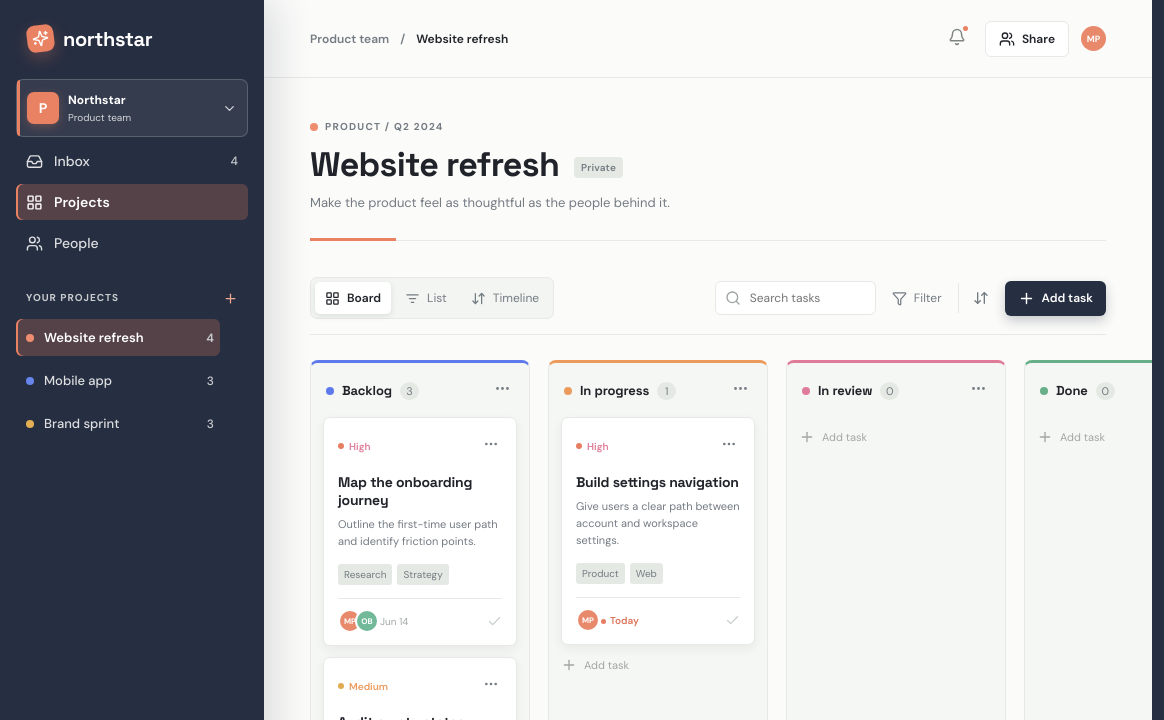
Task creation (Add task modal) › closes a card options menu when clicking outside it
Click the button named "Options for Map the onboarding journey" at (491, 446), box [480, 433, 502, 459]
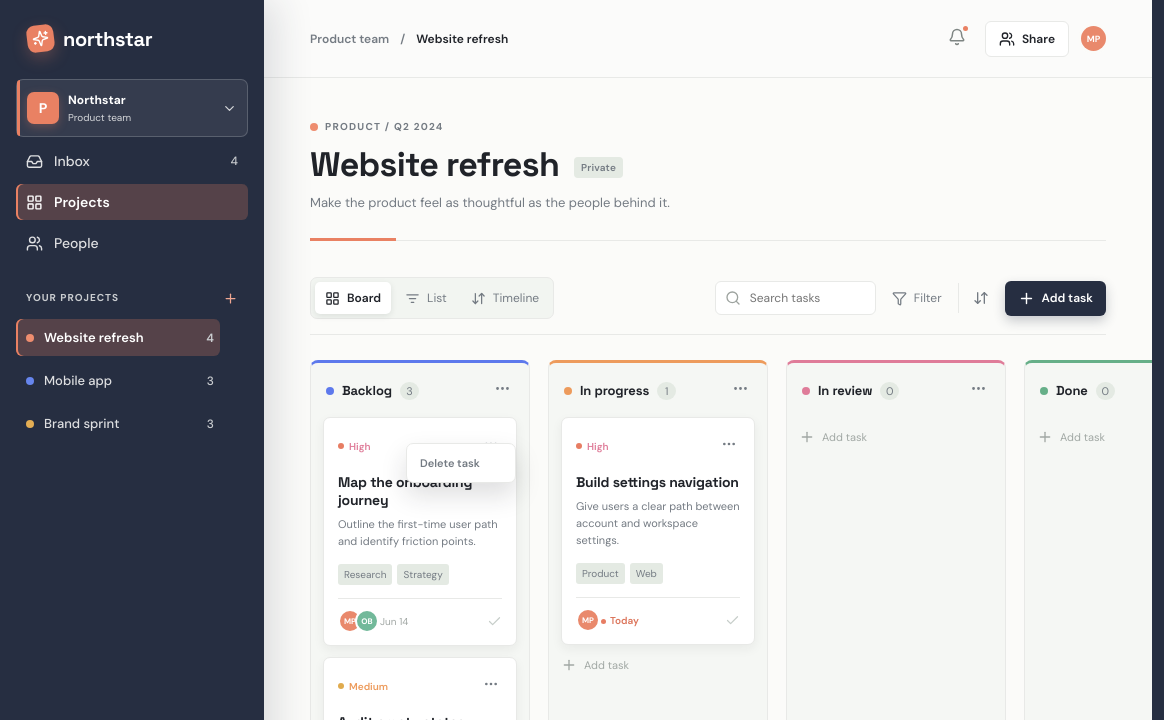
Check: the button "Delete task" is shown, box [412, 449, 510, 477]
Click the element with class "task-menu-backdrop" at (576, 360), box [0, 0, 1152, 719]
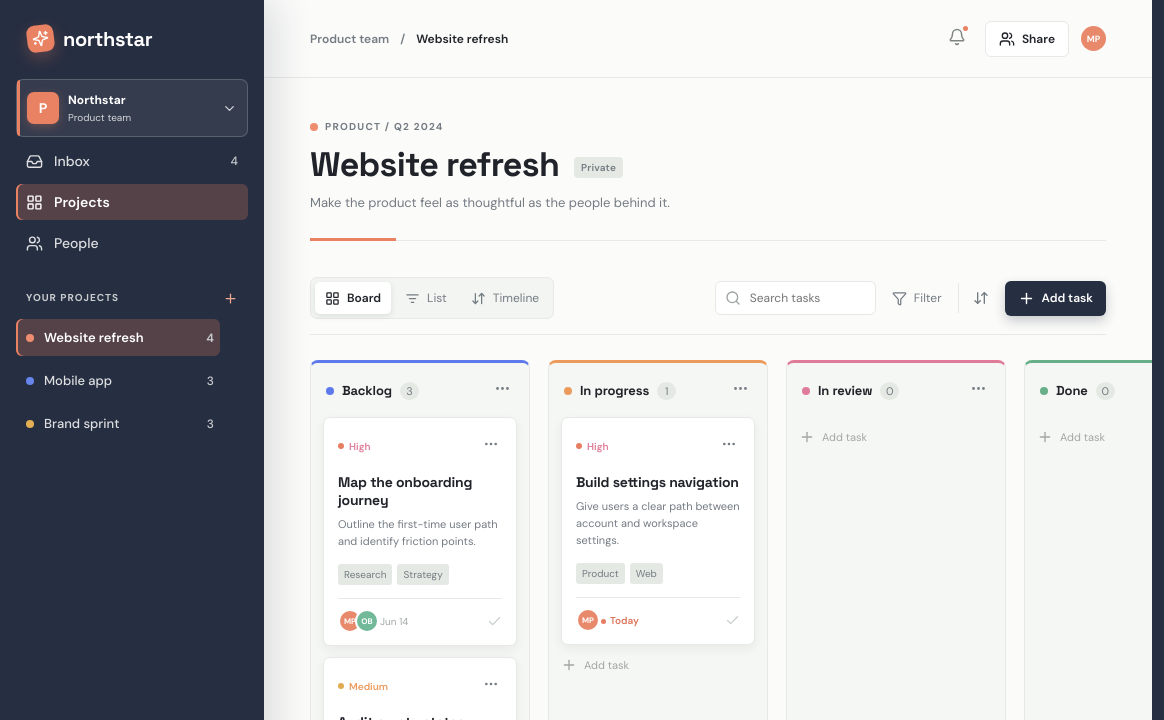
Check: the button "Delete task" is gone
